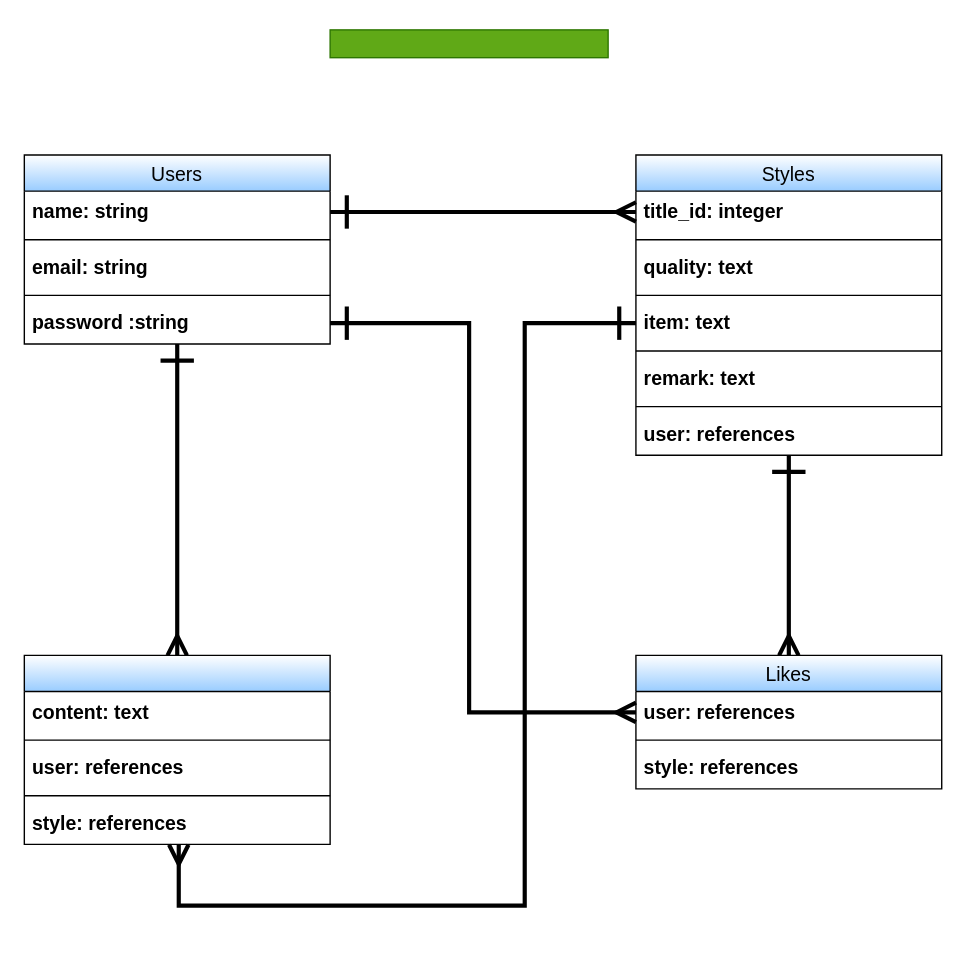
Some shapes in this 966 by 963 pixel diagram are drawn without their labels. Each missing label, with the box of its shape:
Comments: (23, 654, 330, 844)
Style Comments: (329, 28, 608, 58)
